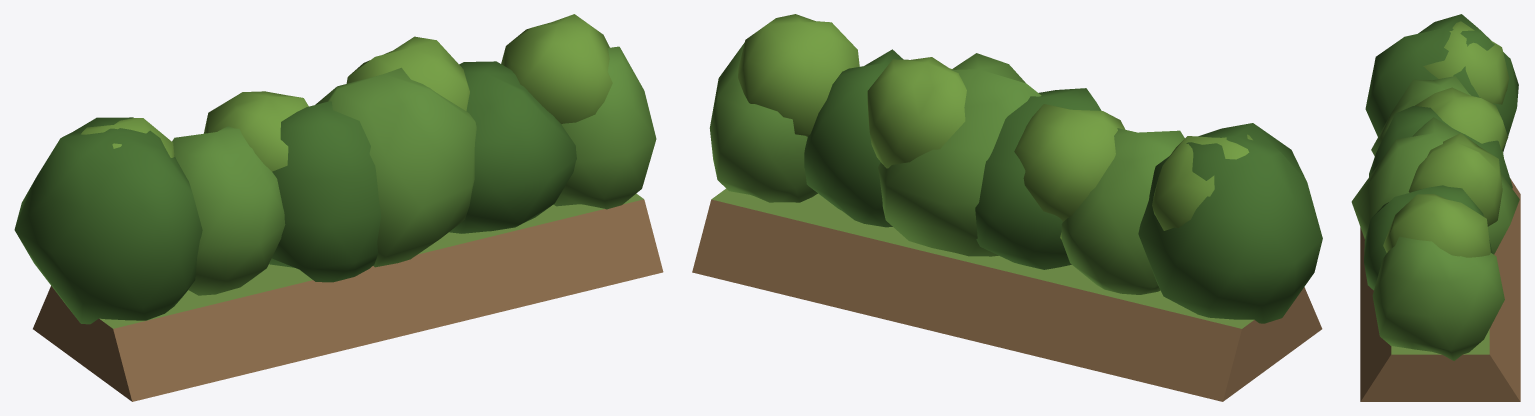
Rendered from hedgerow.glb.
The picture shows the model from 3 angles, left to right: view 1: azimuth 30°, elevation 25°; view 2: azimuth 150°, elevation 25°; view 3: azimuth 270°, elevation 25°; orthographic projection. The views are drawn at different scales.
Parts seen in each view (by area): view 1: LOD0; view 2: LOD0; view 3: LOD0.
Part boxes in pixels (x1,y1,x2,y2): LOD0: (14,14,663,401); LOD0: (692,14,1322,401); LOD0: (1351,14,1520,401).
Size of what is drawn, in the model's own units: 9.04 by 3.28 by 2.75.
Materials: 1 (1 with a texture image).
